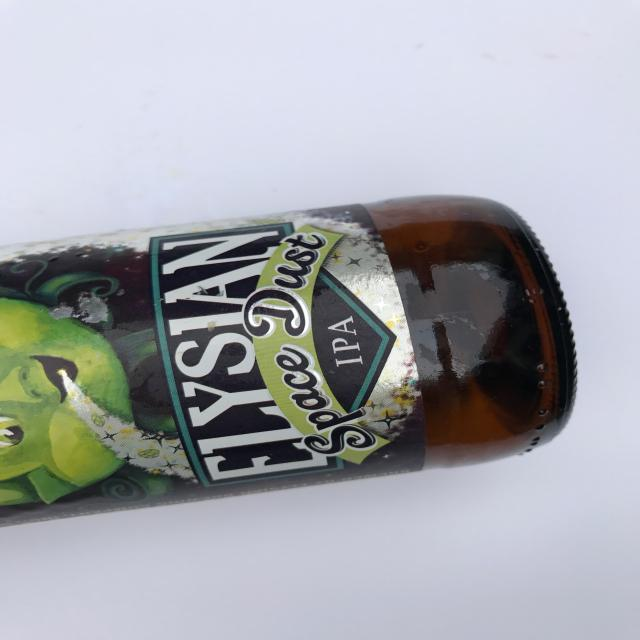glass: (8, 194, 576, 522)
